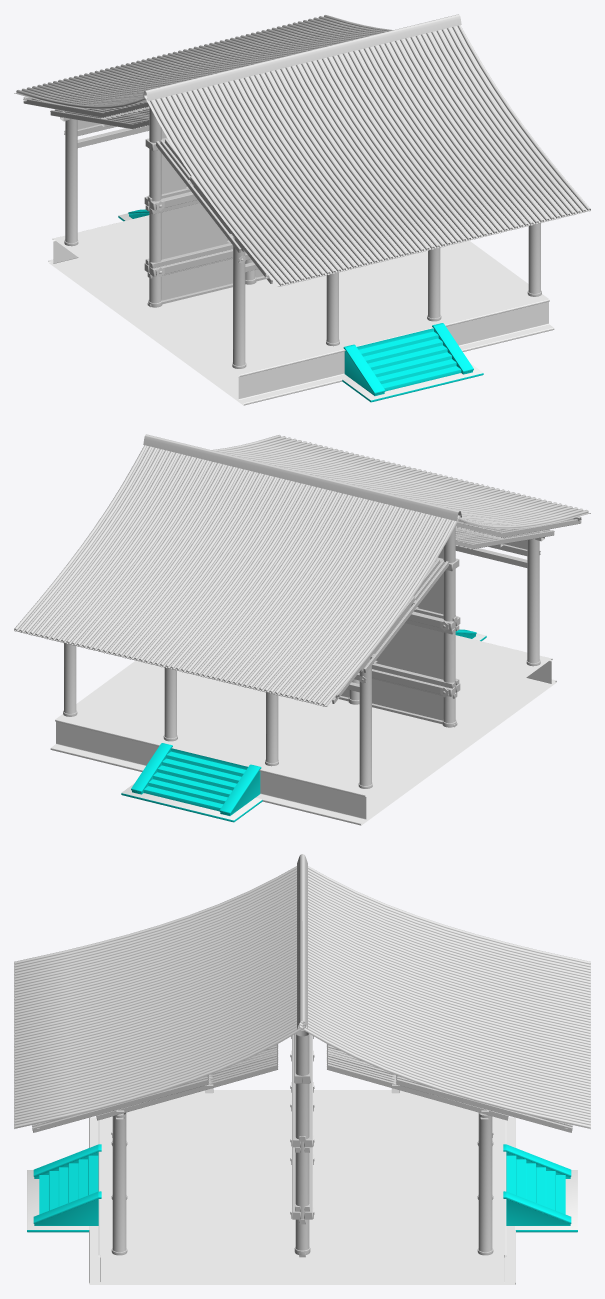
Rendered from Wall Big Loop.fbx.
3 views of the same model, one above another, from view 1: azimuth 30°, elevation 25°; view 2: azimuth 150°, elevation 25°; view 3: azimuth 270°, elevation 25° (orthographic). The views are drawn at different scales.
Visible parts, largest first — view 1: S_Heiankyo_Building_Roof_Long.006, S_Heiankyo_Building_Foundation_Loop.025, S_Heiankyo_Building_StairSmall.017, S_Heiankyo_Building_WallClosed.089, S_Heiankyo_Building_UnderRoof_Long.006, S_Heiankyo_Building_Pillar_2.061, S_Heiankyo_Building_Pillar_2.054, S_Heiankyo_Building_Pillar_2.058, S_Heiankyo_Building_Pillar_2.060, S_Heiankyo_Building_Pillar_2.059, S_Heiankyo_Building_Bar_Big.1082, S_Heiankyo_Building_Bar_Big.1094 (+1 smaller); view 2: S_Heiankyo_Building_Roof_Long.006, S_Heiankyo_Building_Foundation_Loop.025, S_Heiankyo_Building_StairSmall.017, S_Heiankyo_Building_WallClosed.089, S_Heiankyo_Building_UnderRoof_Long.006, S_Heiankyo_Building_Pillar_2.061, S_Heiankyo_Building_Pillar_2.054, S_Heiankyo_Building_Pillar_2.058, S_Heiankyo_Building_Pillar_2.060, S_Heiankyo_Building_Pillar_2.059, S_Heiankyo_Building_Bar_Big.1082, S_Heiankyo_Building_Bar_Big.1094 (+1 smaller); view 3: S_Heiankyo_Building_Roof_Long.006, S_Heiankyo_Building_Foundation_Loop.025, S_Heiankyo_Building_StairSmall.017, S_Heiankyo_Building_UnderRoof_Long.006, S_Heiankyo_Building_Pillar_2.060, S_Heiankyo_Building_Pillar_2.056, S_Heiankyo_Building_Bar_Big.1081.
Part boxes in pixels (x1,y1,x2,y2): S_Heiankyo_Building_Roof_Long.006: (14,14,590,286); S_Heiankyo_Building_Foundation_Loop.025: (48,215,554,405); S_Heiankyo_Building_StairSmall.017: (118,209,483,402); S_Heiankyo_Building_WallClosed.089: (161,128,263,300); S_Heiankyo_Building_UnderRoof_Long.006: (23,96,272,283); S_Heiankyo_Building_Pillar_2.061: (64,118,246,368); S_Heiankyo_Building_Pillar_2.054: (148,106,162,307); S_Heiankyo_Building_Pillar_2.058: (427,247,441,321); S_Heiankyo_Building_Pillar_2.060: (527,223,541,296); S_Heiankyo_Building_Pillar_2.059: (326,272,339,346); S_Heiankyo_Building_Bar_Big.1082: (144,249,232,276); S_Heiankyo_Building_Bar_Big.1094: (77,126,258,272); S_Heiankyo_Building_Roof_Long.006: (14,434,590,706); S_Heiankyo_Building_Foundation_Loop.025: (50,635,556,825); S_Heiankyo_Building_StairSmall.017: (121,629,486,822); S_Heiankyo_Building_WallClosed.089: (341,548,443,720); S_Heiankyo_Building_UnderRoof_Long.006: (332,516,581,703); S_Heiankyo_Building_Pillar_2.061: (358,538,540,788); S_Heiankyo_Building_Pillar_2.054: (442,526,456,727); S_Heiankyo_Building_Pillar_2.058: (163,667,177,741); S_Heiankyo_Building_Pillar_2.060: (63,643,77,716); S_Heiankyo_Building_Pillar_2.059: (265,692,278,766); S_Heiankyo_Building_Bar_Big.1082: (372,669,460,696); S_Heiankyo_Building_Bar_Big.1094: (346,546,527,692); S_Heiankyo_Building_Roof_Long.006: (14,854,590,1128); S_Heiankyo_Building_Foundation_Loop.025: (89,1090,515,1284); S_Heiankyo_Building_StairSmall.017: (27,1144,577,1232); S_Heiankyo_Building_UnderRoof_Long.006: (32,1044,572,1132); S_Heiankyo_Building_Pillar_2.060: (111,1112,493,1255); S_Heiankyo_Building_Pillar_2.056: (294,1030,310,1255); S_Heiankyo_Building_Bar_Big.1081: (292,1035,312,1147).
Size of the model in its own units: 815 by 603 by 1189.
